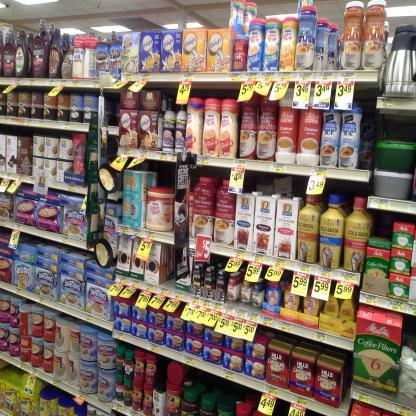Void: (382, 113, 414, 141), (157, 164, 175, 190), (374, 212, 390, 238), (109, 92, 118, 128), (407, 313, 416, 345)
